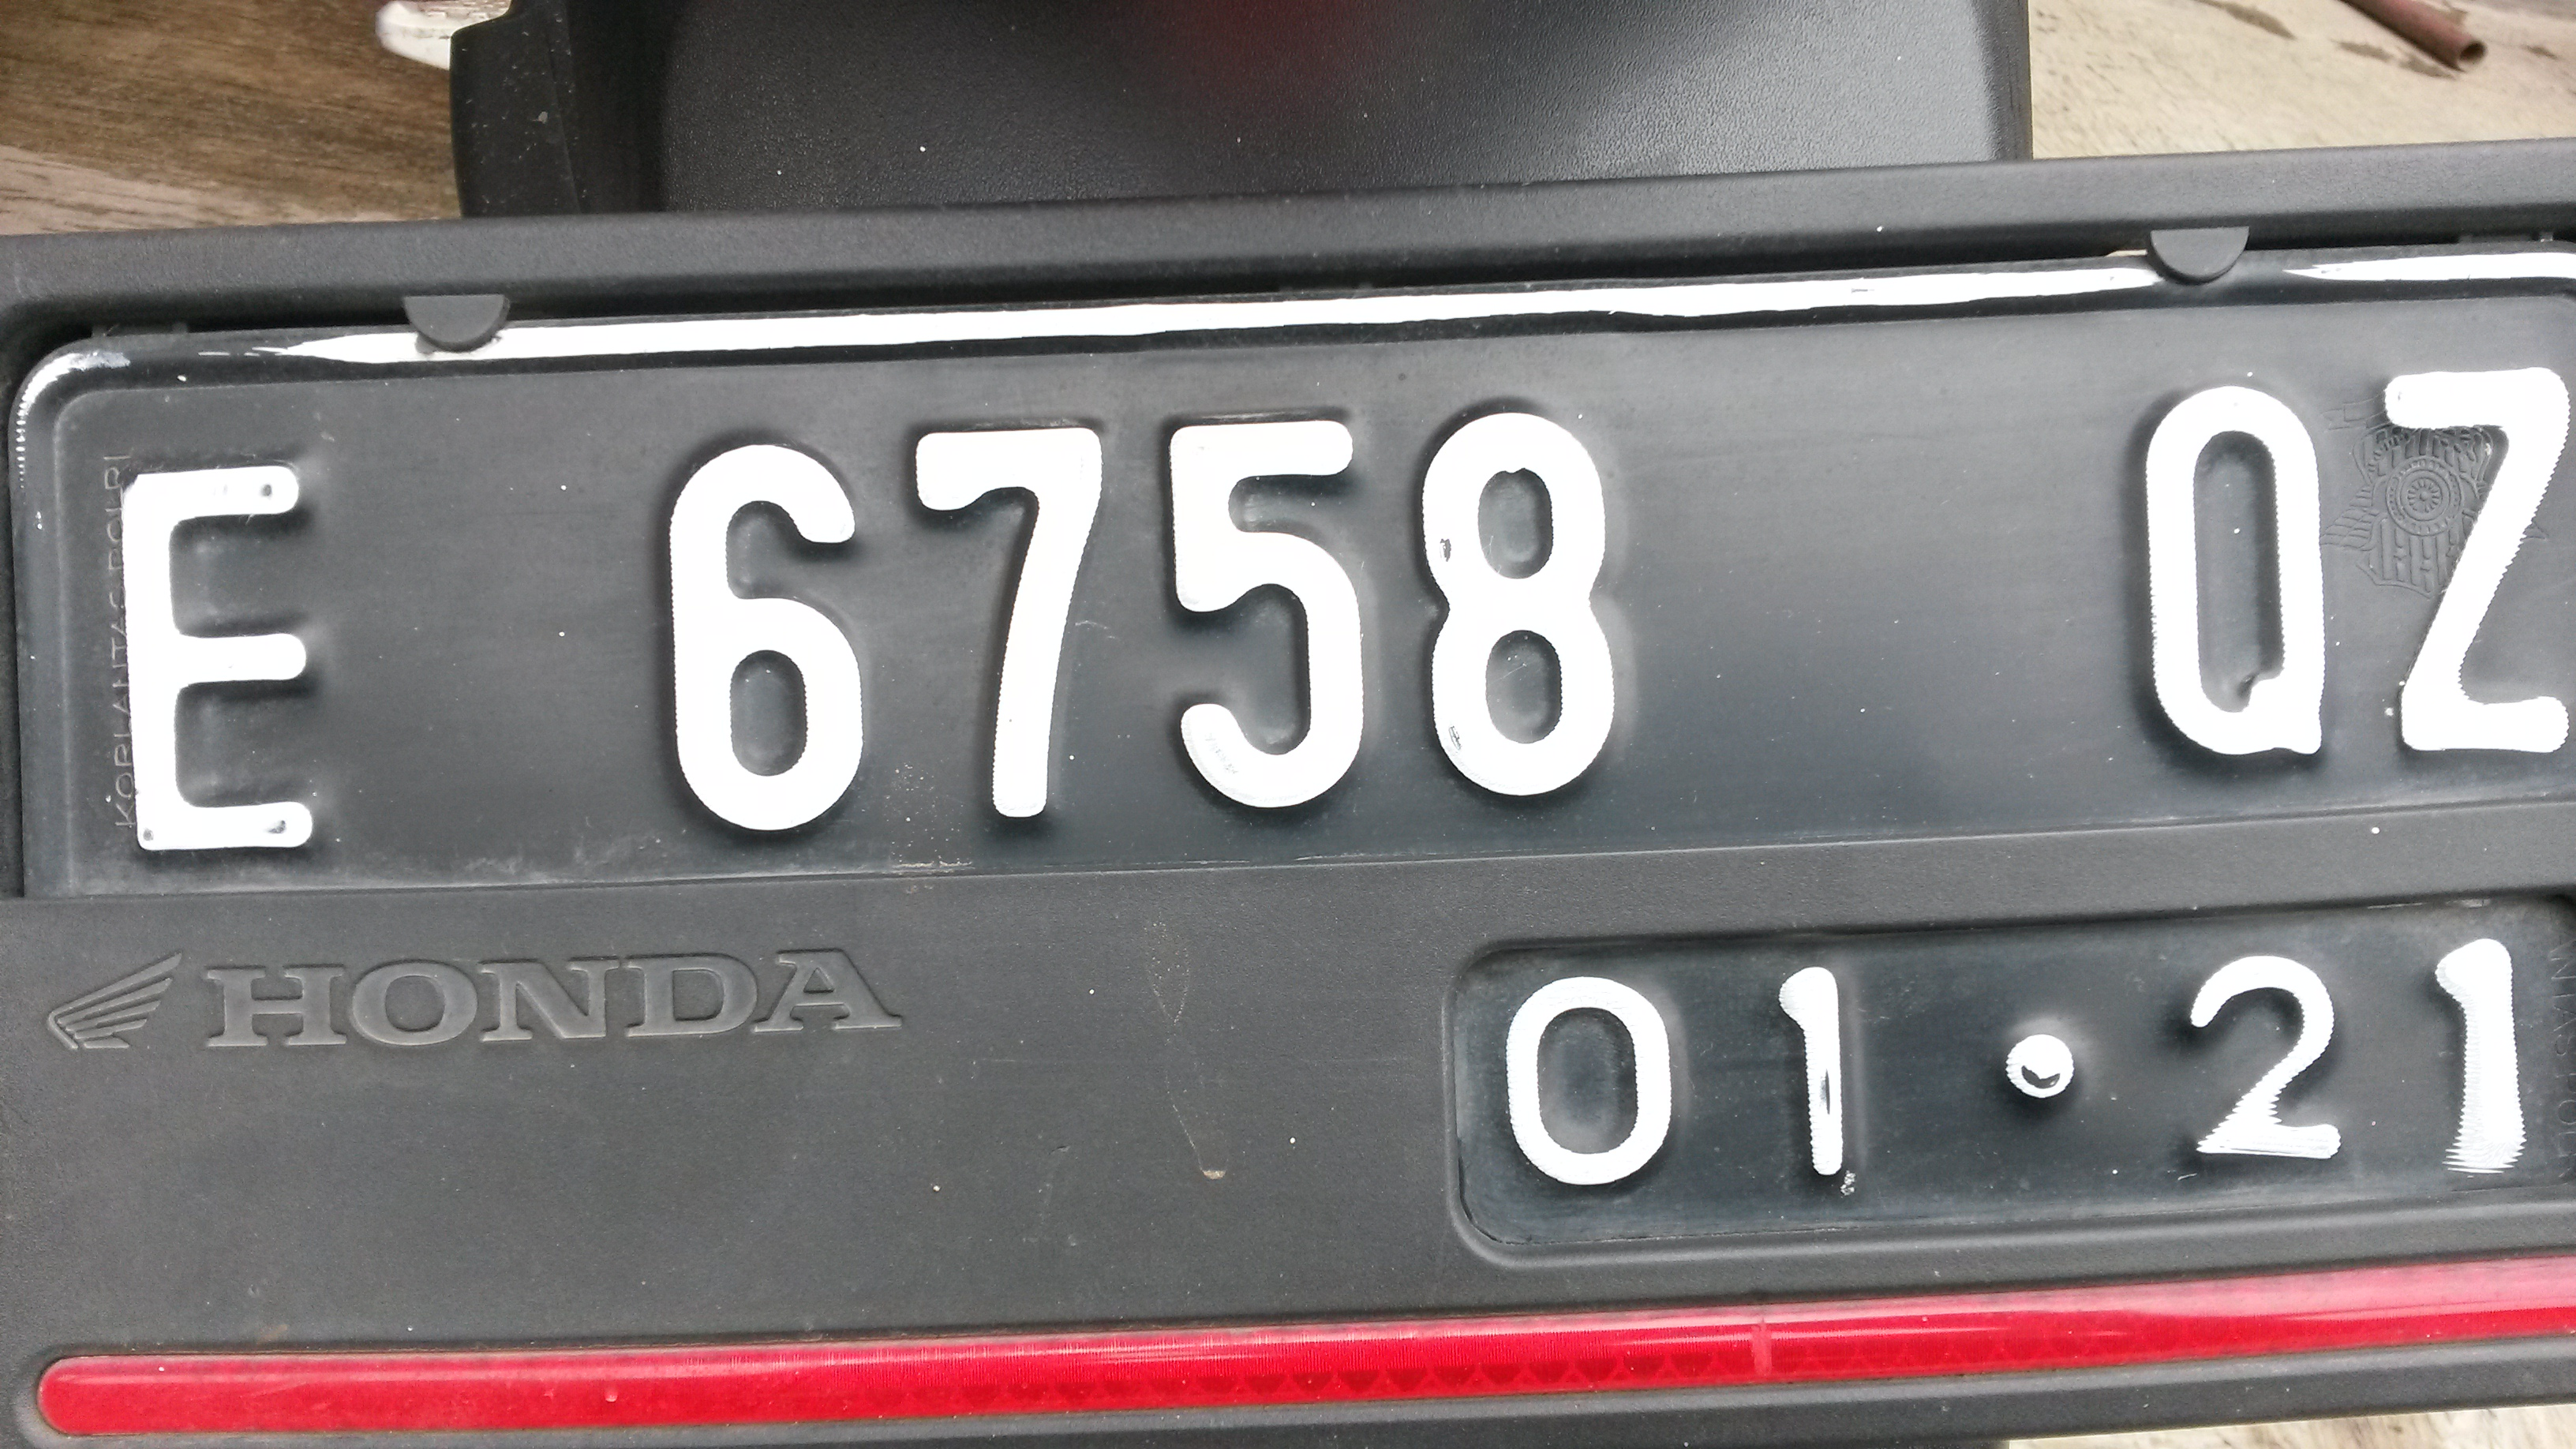plate: (2, 261, 2576, 1215)
